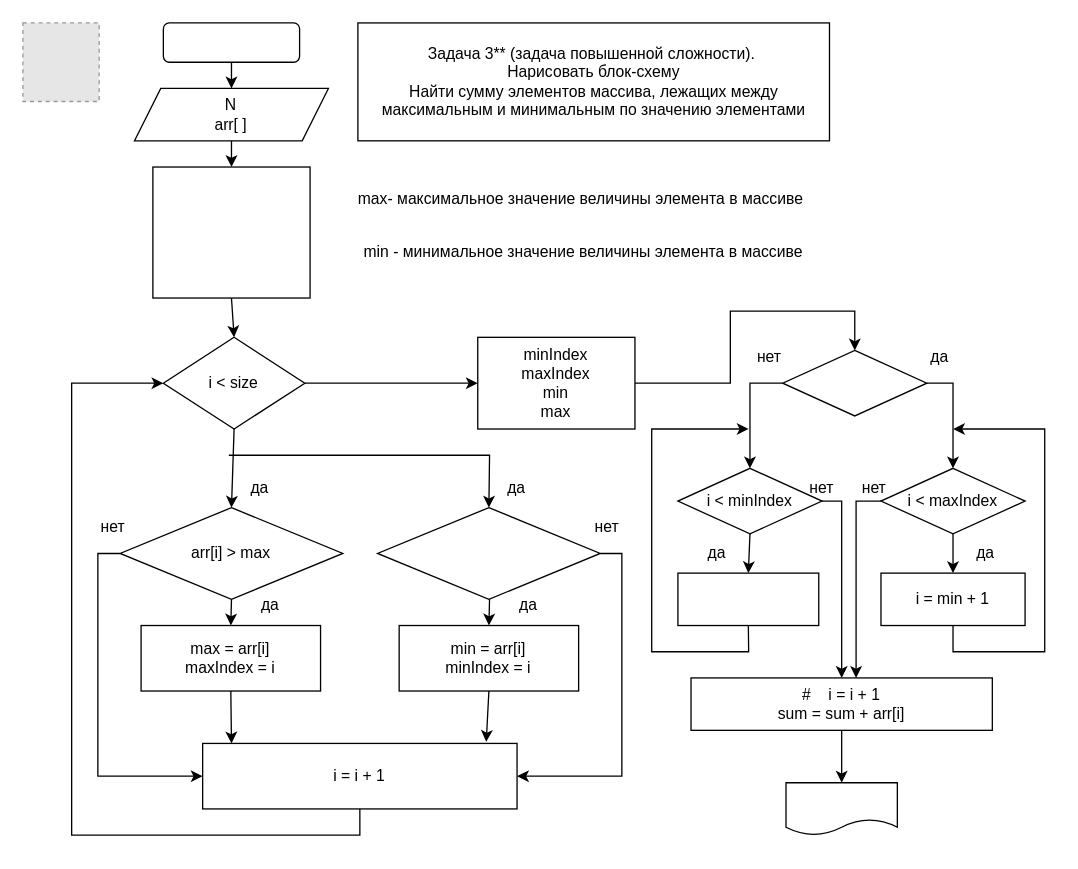
Some shapes in this 1078 by 869 pixel diagram are drawn without their labels. Grey dashed boxes stand in for pictures. Here are the shapes that lost their labels. From the top down, the centre of each, then its label:
[231,42]: старт
[231,232]: i = 0 size = N max = arr[i] maxIndex = 0 min = arr[i] minIndex = 0 sum = 0
[854,382]: min < max
[488,552]: arr[i] < min
[748,599]: i = max + 1
[841,808]: sum
